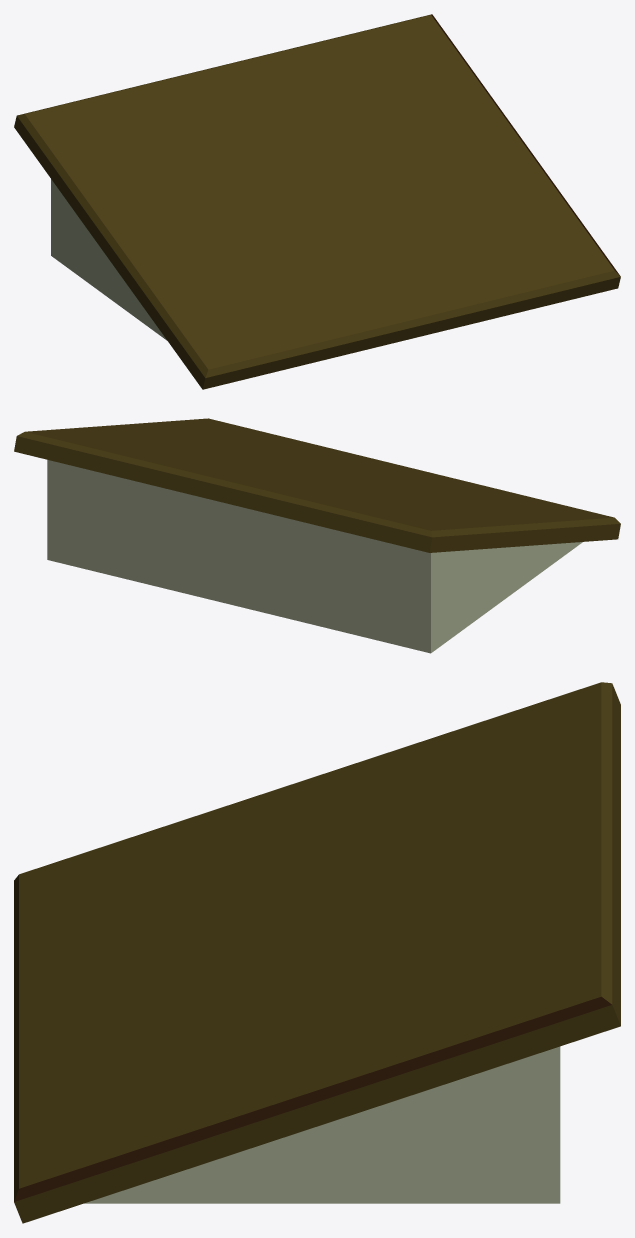
Rendered from House_HalfRoof_FBX.fbx.
3 renders of one model, top to bottom at view 1: azimuth 30°, elevation 25°; view 2: azimuth 150°, elevation 25°; view 3: azimuth 270°, elevation 25°, orthographic. The views are drawn at different scales.
Parts seen in each view (by area): view 1: Roof013, Roof 008; view 2: Roof 008, Roof013; view 3: Roof013, Roof 008.
Part boxes in pixels (box(x1,y1,x2,y2)): Roof013: box(14, 14, 620, 389); Roof 008: box(51, 179, 166, 340); Roof 008: box(47, 460, 582, 653); Roof013: box(14, 418, 620, 552); Roof013: box(14, 682, 620, 1223); Roof 008: box(84, 1046, 560, 1203).
Size of the model in its own units: 900 by 292 by 718.
